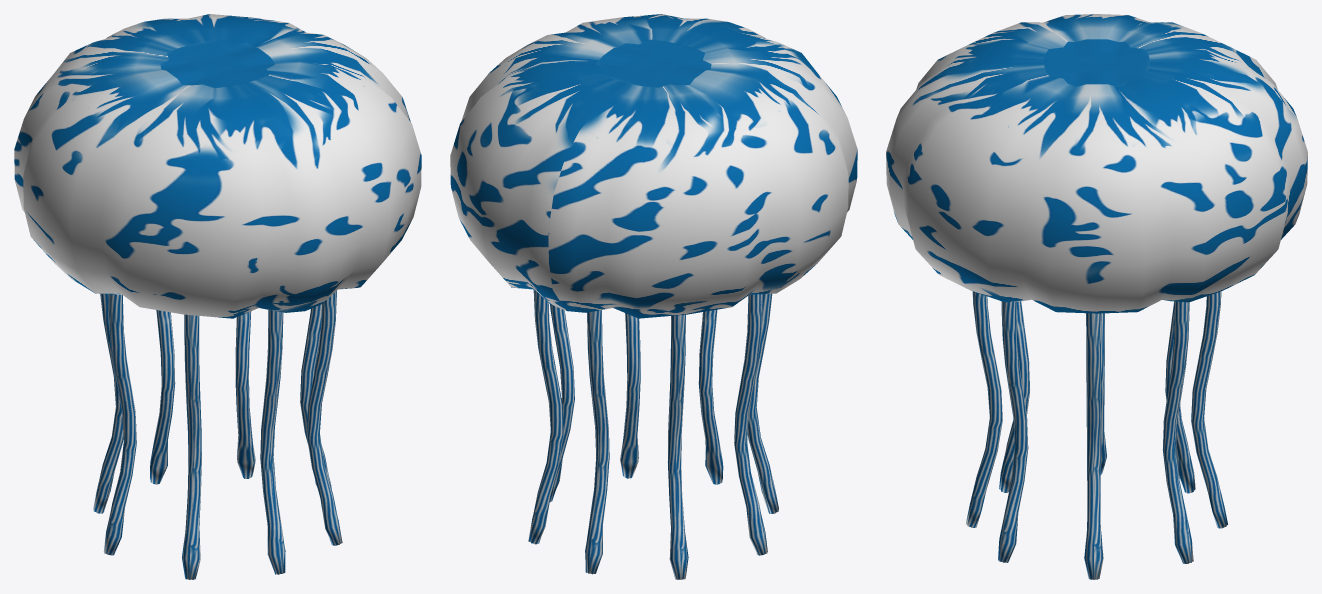
Rendered from Jellyfish.gltf.
3 views of the same model, side by side, from view 1: azimuth 30°, elevation 25°; view 2: azimuth 150°, elevation 25°; view 3: azimuth 270°, elevation 25° (orthographic).
Visible parts, largest first — view 1: polySurface45, T33, T37, T29, T13, T21, T17, T25, T7; view 2: polySurface45, T25, T21, T29, T17, T37, T13, T33, T7; view 3: polySurface45, T7, T17, T13, T21, T37, T33, T25, T29.
Boxes of the visible parts, x1,y1,x2,y2 form: polySurface45: (14,14,421,318); T33: (182,314,201,579); T37: (260,310,285,574); T29: (103,294,136,555); T13: (307,291,342,545); T21: (150,310,175,484); T17: (235,311,255,478); T25: (93,294,123,513); T7: (300,304,331,488); polySurface45: (450,14,857,318); T25: (667,314,688,579); T21: (585,310,609,574); T29: (734,294,767,555); T17: (528,290,563,544); T37: (698,309,723,484); T13: (620,313,640,478); T33: (747,293,778,513); T7: (549,304,574,502); polySurface45: (886,14,1307,313); T7: (1084,313,1103,579); T17: (1162,301,1193,563); T13: (998,301,1028,562); T21: (1191,291,1227,528); T37: (966,291,1002,527); T33: (999,301,1029,492); T25: (1165,301,1195,493); T29: (1100,313,1106,474).
Bounding box in the file's own units: 0.0478 × 0.061 × 0.0501.
1 material, 1 textured.
